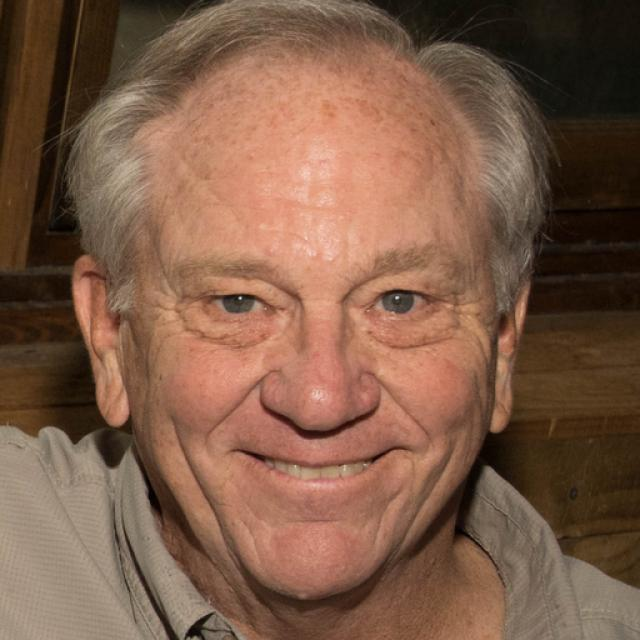Pigmentation: (188, 71, 293, 153), (380, 95, 450, 168), (336, 89, 384, 128), (442, 169, 470, 234), (308, 92, 342, 123)
